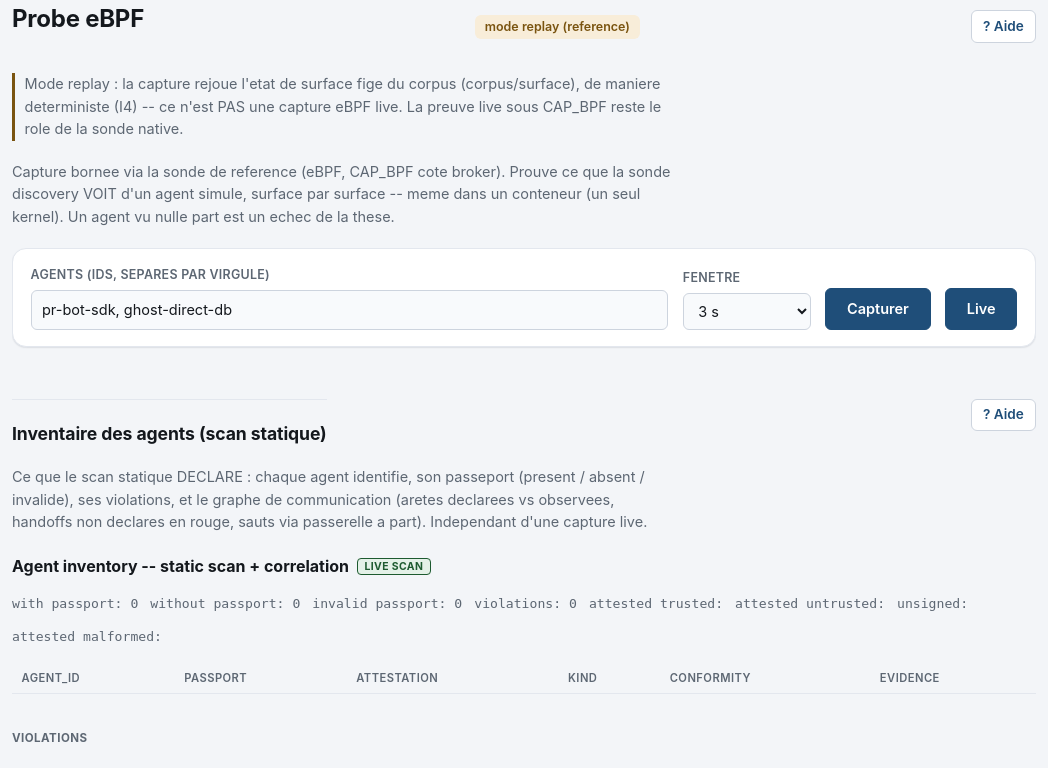
Scenario: ProbePage › captures and renders the verdict, false negative and per-surface detail
Click the button with test id "probe-capture-button". click: point(878, 309)
box: [825,288,931,330]
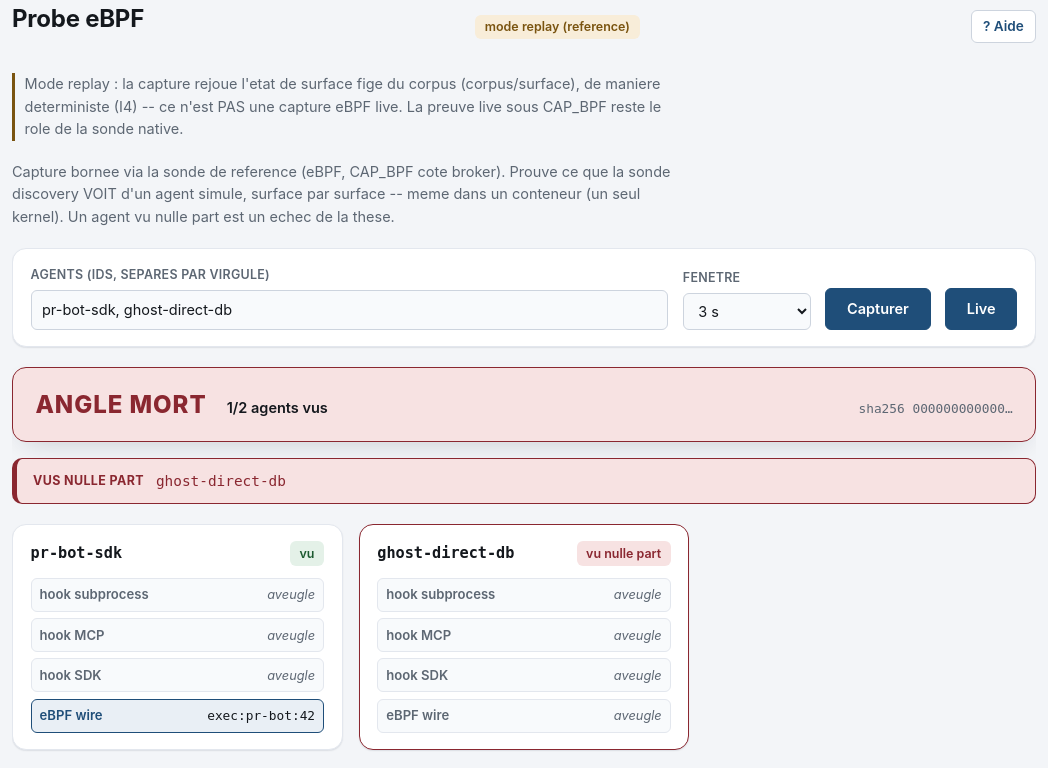
Check: the element with test id "probe-hero" shows "ANGLE MORT", box [35,390,207,419]
Check: the message with test id "probe-false-negatives" shows "ghost-direct-db", box [156,473,286,489]
Check: the list item with test id "probe-surface-pr-bot-sdk-ebpf_wire" shows "exec:pr-bot:42", box [207,708,315,723]
